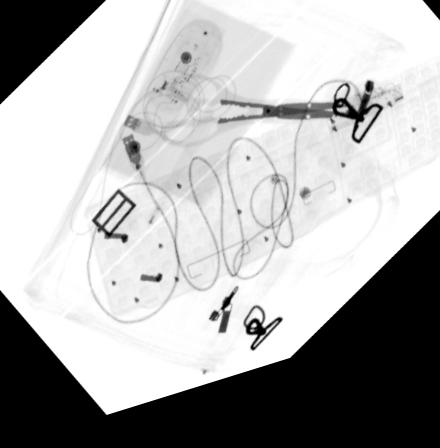Scissors: (156, 82, 352, 161)
